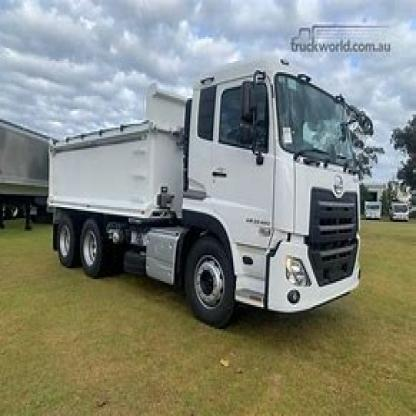dump_truck: (45, 57, 374, 322)
